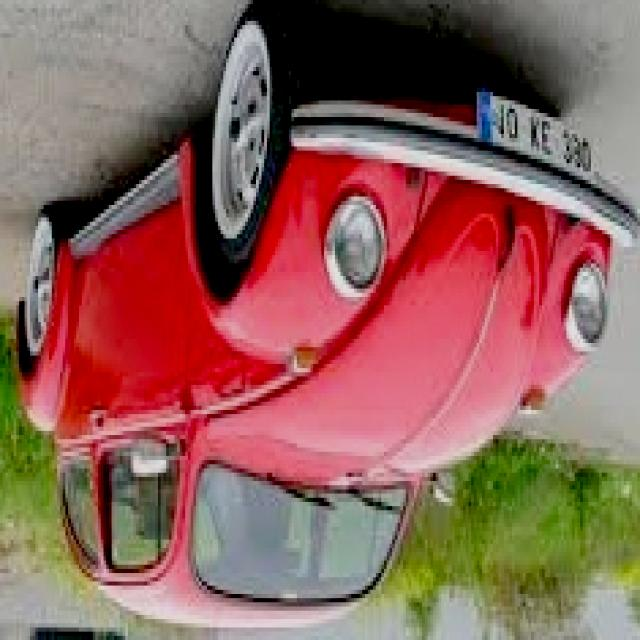red: (15, 37, 633, 620)
